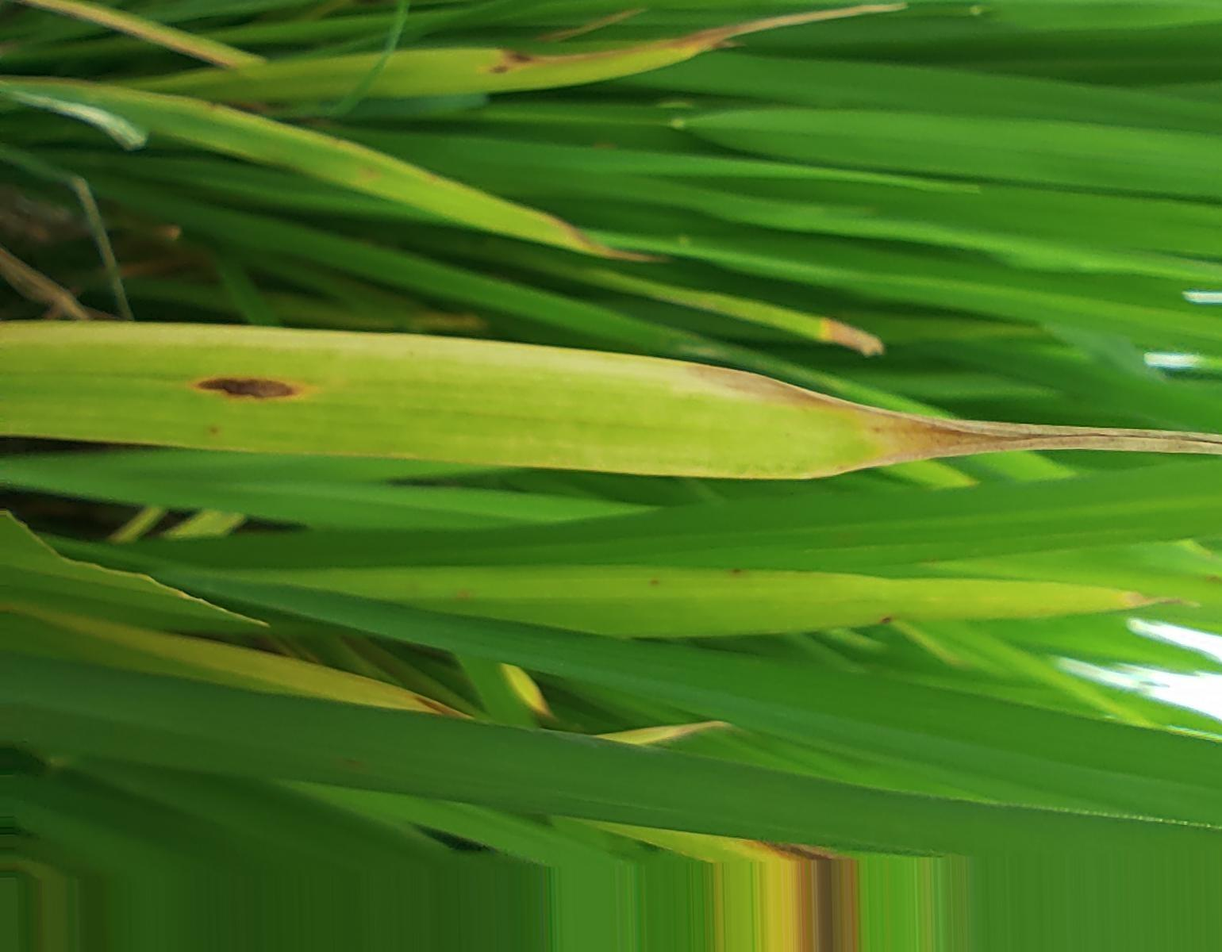LEAF: (0, 321, 1221, 480)
NBS: (187, 374, 323, 403)
